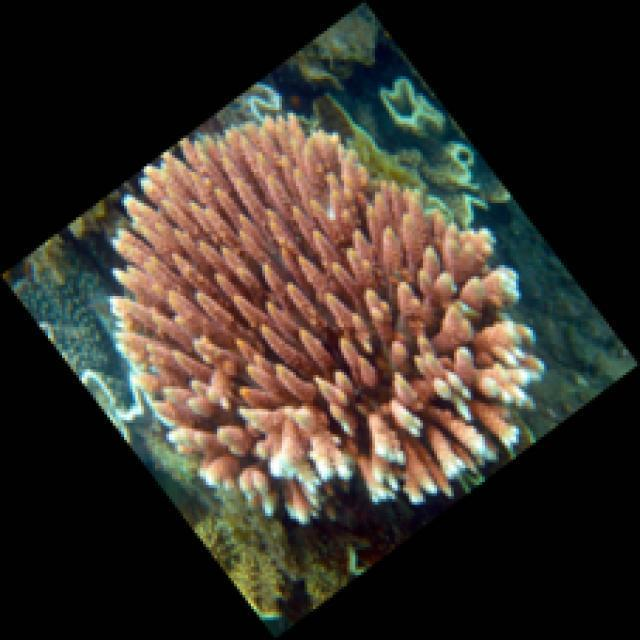Healthy: (110, 112, 548, 524)
